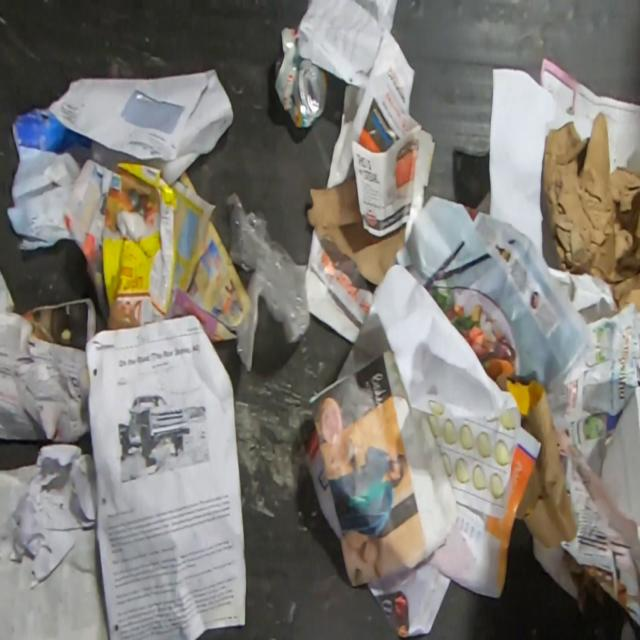cardboard: (100, 159, 180, 329), (5, 104, 94, 252), (306, 175, 406, 288)
metal: (274, 25, 329, 130)
soft_plastic: (223, 189, 312, 373)
